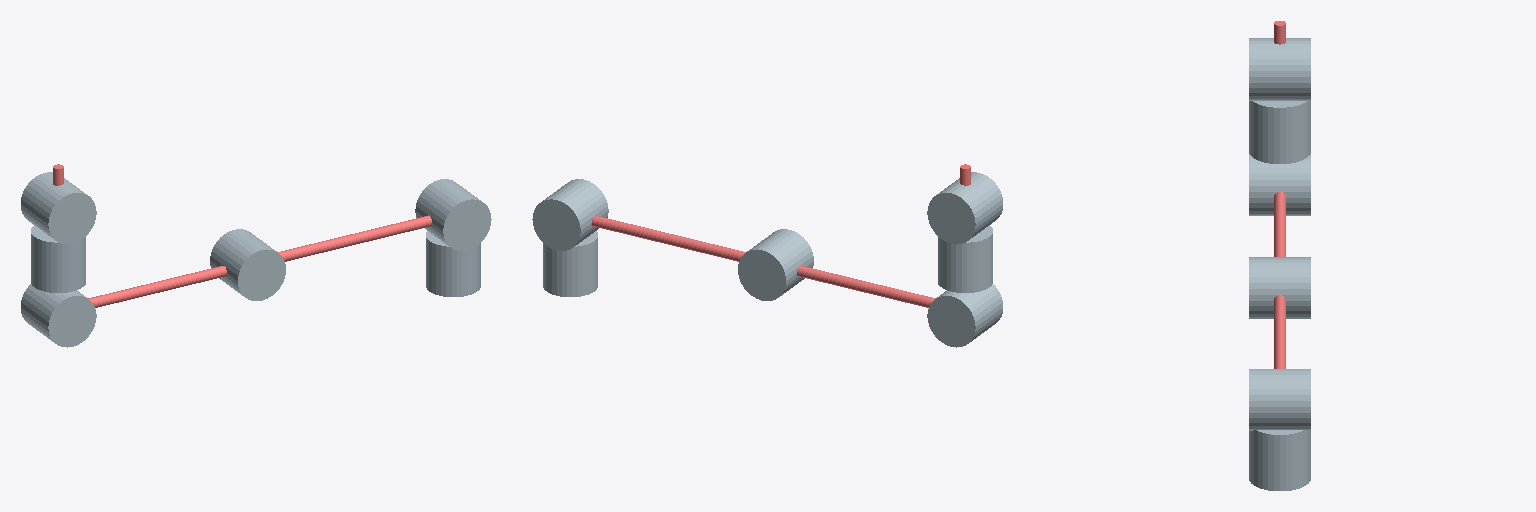
URDF robot description (GenericDH):
<robot name='GenericDH'>
	<material name='blue'>
		<color rgba='0 0 0.8 1'/>
	</material>
	<material name='red'>
		<color rgba='0.8 0 0 1'/>
	</material>
	<link name='a0'>
		<visual>
			<origin rpy='-0.0 0.0 0.0' xyz='0.0 0.0 0.0'/>
			<geometry>
				<cylinder length='0.1' radius='0.05'/>
			</geometry>
			<material name='blue'><color rgba='0.73 0.79 0.82 1'/></material>
		</visual>
	</link>
	<link name='l0'>
		<visual>
			<origin rpy='-0.0 0.0 0.0' xyz='0.0 0.0 0.0447295'/>
			<geometry>
				<cylinder length='0.089459' radius='0.01'/>
			</geometry>
			<material name='grey'><color rgba='0.99 0.54 0.54 1'/></material>
		</visual>
	</link>
	<joint name='move_l0_from_a0' type='continuous'>
		<parent link='a0'/>
		<child link='l0'/>
		<axis xyz='0.0 0.0 1.0'/>
		<origin rpy='0 0 0' xyz='0.0 0.0 0.0'/>
	</joint>
	<link name='a1'>
		<visual>
			<origin rpy='1.5707963267948966 0.0 0.0' xyz='0.0 0.0 0.089459'/>
			<geometry>
				<cylinder length='0.1' radius='0.05'/>
			</geometry>
			<material name='blue'><color rgba='0.73 0.79 0.82 1'/></material>
		</visual>
	</link>
	<joint name='fix_a1_to_l0' type='fixed'>
		<parent link='l0'/>
		<child link='a1'/>
		<origin rpy='0 0 0' xyz='0 0 0'/>
	</joint>
	<link name='l1'>
		<visual>
			<origin rpy='-0.0 -1.5707963267948963 0.0' xyz='-0.2125 -0.0 0.0'/>
			<geometry>
				<cylinder length='0.425' radius='0.01'/>
			</geometry>
			<material name='grey'><color rgba='0.99 0.54 0.54 1'/></material>
		</visual>
	</link>
	<joint name='move_l1_from_a1' type='continuous'>
		<parent link='a1'/>
		<child link='l1'/>
		<axis xyz='0.0 -1.0 0.0'/>
		<origin rpy='0 0 0' xyz='0.0 0.0 0.089459'/>
	</joint>
	<link name='a2'>
		<visual>
			<origin rpy='1.5707963267948966 0.0 0.0' xyz='-0.425 -0.0 0.0'/>
			<geometry>
				<cylinder length='0.1' radius='0.05'/>
			</geometry>
			<material name='blue'><color rgba='0.73 0.79 0.82 1'/></material>
		</visual>
	</link>
	<joint name='fix_a2_to_l1' type='fixed'>
		<parent link='l1'/>
		<child link='a2'/>
		<origin rpy='0 0 0' xyz='0 0 0'/>
	</joint>
	<link name='l2'>
		<visual>
			<origin rpy='-0.0 -1.5707963267948963 0.0' xyz='-0.196125 -0.0 0.0'/>
			<geometry>
				<cylinder length='0.39225' radius='0.01'/>
			</geometry>
			<material name='grey'><color rgba='0.99 0.54 0.54 1'/></material>
		</visual>
	</link>
	<joint name='move_l2_from_a2' type='continuous'>
		<parent link='a2'/>
		<child link='l2'/>
		<axis xyz='0.0 -1.0 0.0'/>
		<origin rpy='0 0 0' xyz='-0.425 -0.0 0.0'/>
	</joint>
	<link name='a3'>
		<visual>
			<origin rpy='1.5707963267948966 0.0 0.0' xyz='-0.39225 -0.0 0.0'/>
			<geometry>
				<cylinder length='0.1' radius='0.05'/>
			</geometry>
			<material name='blue'><color rgba='0.73 0.79 0.82 1'/></material>
		</visual>
	</link>
	<joint name='fix_a3_to_l2' type='fixed'>
		<parent link='l2'/>
		<child link='a3'/>
		<origin rpy='0 0 0' xyz='0 0 0'/>
	</joint>
	<link name='l3'>
		<visual>
			<origin rpy='-0.0 0.0 0.0' xyz='0.0 0.0 0.054575'/>
			<geometry>
				<cylinder length='0.10915' radius='0.01'/>
			</geometry>
			<material name='grey'><color rgba='0.99 0.54 0.54 1'/></material>
		</visual>
	</link>
	<joint name='move_l3_from_a3' type='continuous'>
		<parent link='a3'/>
		<child link='l3'/>
		<axis xyz='0.0 -1.0 0.0'/>
		<origin rpy='0 0 0' xyz='-0.39225 -0.0 0.0'/>
	</joint>
	<link name='a4'>
		<visual>
			<origin rpy='3.141592653589793 0.0 0.0' xyz='0.0 0.0 0.10915'/>
			<geometry>
				<cylinder length='0.1' radius='0.05'/>
			</geometry>
			<material name='blue'><color rgba='0.73 0.79 0.82 1'/></material>
		</visual>
	</link>
	<joint name='fix_a4_to_l3' type='fixed'>
		<parent link='l3'/>
		<child link='a4'/>
		<origin rpy='0 0 0' xyz='0 0 0'/>
	</joint>
	<link name='l4'>
		<visual>
			<origin rpy='-0.0 0.0 0.0' xyz='0.0 0.0 0.047325'/>
			<geometry>
				<cylinder length='0.09465' radius='0.01'/>
			</geometry>
			<material name='grey'><color rgba='0.99 0.54 0.54 1'/></material>
		</visual>
	</link>
	<joint name='move_l4_from_a4' type='continuous'>
		<parent link='a4'/>
		<child link='l4'/>
		<axis xyz='0.0 -1.2246467991473532e-16 -1.0'/>
		<origin rpy='0 0 0' xyz='0.0 0.0 0.10915'/>
	</joint>
	<link name='a5'>
		<visual>
			<origin rpy='1.5707963267948966 0.0 0.0' xyz='0.0 0.0 0.09465'/>
			<geometry>
				<cylinder length='0.1' radius='0.05'/>
			</geometry>
			<material name='blue'><color rgba='0.73 0.79 0.82 1'/></material>
		</visual>
	</link>
	<joint name='fix_a5_to_l4' type='fixed'>
		<parent link='l4'/>
		<child link='a5'/>
		<origin rpy='0 0 0' xyz='0 0 0'/>
	</joint>
	<link name='l5'>
		<visual>
			<origin rpy='-0.0 0.0 0.0' xyz='0.0 0.0 0.04115'/>
			<geometry>
				<cylinder length='0.0823' radius='0.01'/>
			</geometry>
			<material name='grey'><color rgba='0.99 0.54 0.54 1'/></material>
		</visual>
	</link>
	<joint name='move_l5_from_a5' type='continuous'>
		<parent link='a5'/>
		<child link='l5'/>
		<axis xyz='0.0 -1.0 0.0'/>
		<origin rpy='0 0 0' xyz='0.0 0.0 0.09465'/>
	</joint>
</robot>

--- Render facts (derived) ---
The picture shows the robot from 3 angles, left to right: view 1: azimuth 30°, elevation 25°; view 2: azimuth 150°, elevation 25°; view 3: azimuth 270°, elevation 25°; orthographic projection.
Model GenericDH with 12 links and 11 joints (6 continuous, 5 fixed), rooted at a0, posed all joints at 0.
Visible links, largest first — view 1: a5, a2, a1, a3, a4, a0, l1, l2; view 2: a5, a2, a1, a3, a4, a0, l1, l2; view 3: a5, a1, a4, a0, a2, a3, l1, l2.
Boxes of the visible links, x1,y1,x2,y2 form: a5: (21, 172, 96, 244); a2: (210, 229, 285, 300); a1: (415, 179, 491, 250); a3: (21, 284, 96, 347); a4: (31, 225, 85, 292); a0: (426, 231, 480, 296); l1: (278, 215, 431, 261); l2: (88, 266, 226, 307); a5: (927, 172, 1002, 244); a2: (738, 229, 813, 300); a1: (532, 179, 608, 250); a3: (927, 284, 1002, 347); a4: (938, 225, 992, 292); a0: (543, 231, 597, 296); l1: (592, 215, 745, 261); l2: (797, 266, 935, 307); a5: (1249, 38, 1310, 100); a1: (1249, 369, 1310, 430); a4: (1249, 101, 1310, 163); a0: (1249, 430, 1310, 490); a2: (1249, 257, 1310, 318); a3: (1249, 154, 1310, 215); l1: (1274, 295, 1285, 368); l2: (1274, 192, 1285, 256).
Bounding box of the posed robot: 0.9173 × 0.1 × 0.4256 m (x, y, z).
Geometry: primitives only (box / cylinder / sphere), no mesh files.